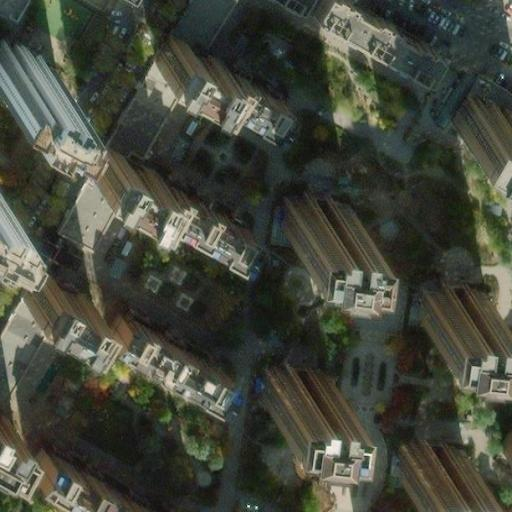building: (54, 0, 226, 245), (99, 310, 215, 393), (309, 0, 433, 76), (21, 454, 137, 512), (150, 184, 243, 252), (0, 263, 45, 392), (85, 142, 168, 211), (205, 68, 288, 130), (19, 269, 95, 331), (147, 37, 218, 96), (279, 203, 354, 251), (399, 444, 466, 493), (418, 289, 492, 333), (261, 372, 328, 415), (0, 33, 46, 93), (465, 77, 512, 126), (0, 415, 23, 459)
